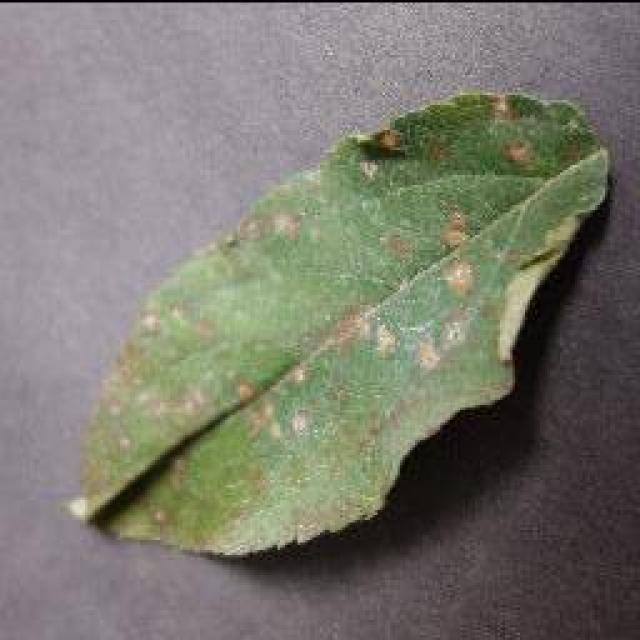apple rust disease: (70, 88, 610, 560)
